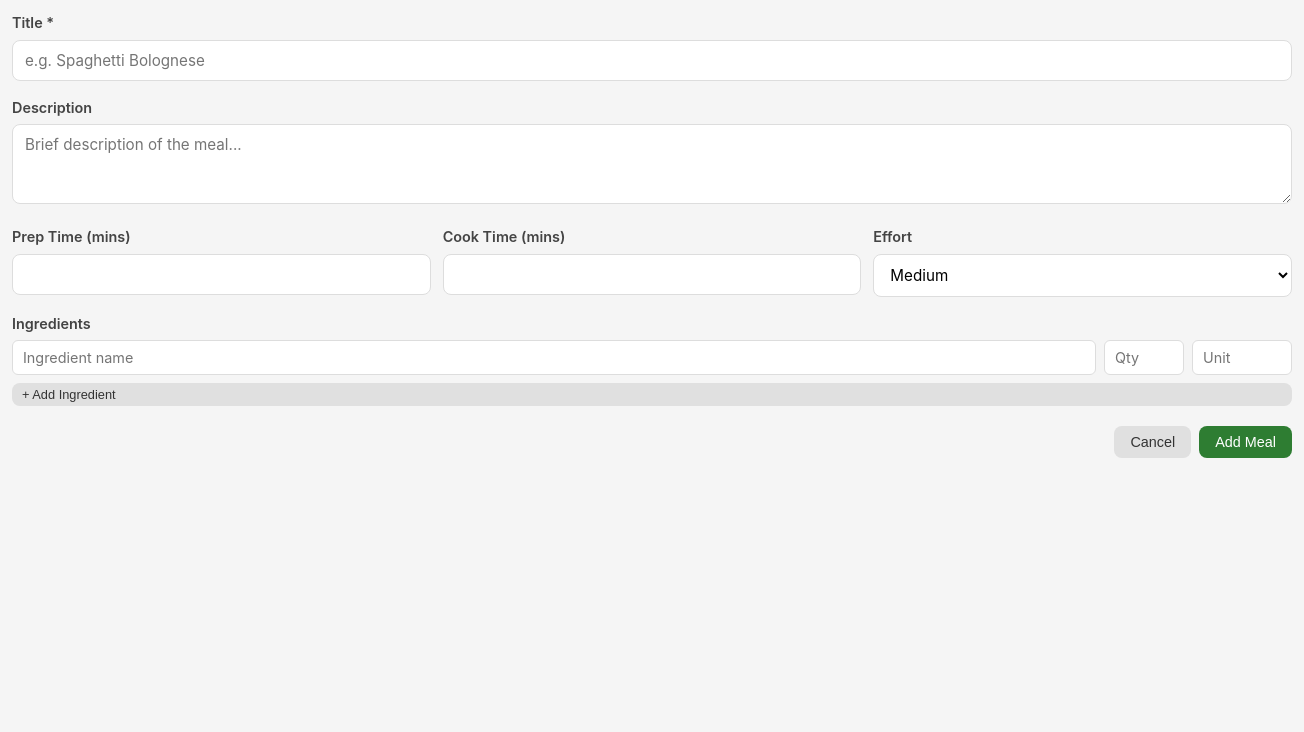
MealForm › adds new ingredient row when clicking add ingredient
Click the button "+ Add Ingredient" at (69, 395), box left=12, top=383, right=1292, bottom=406
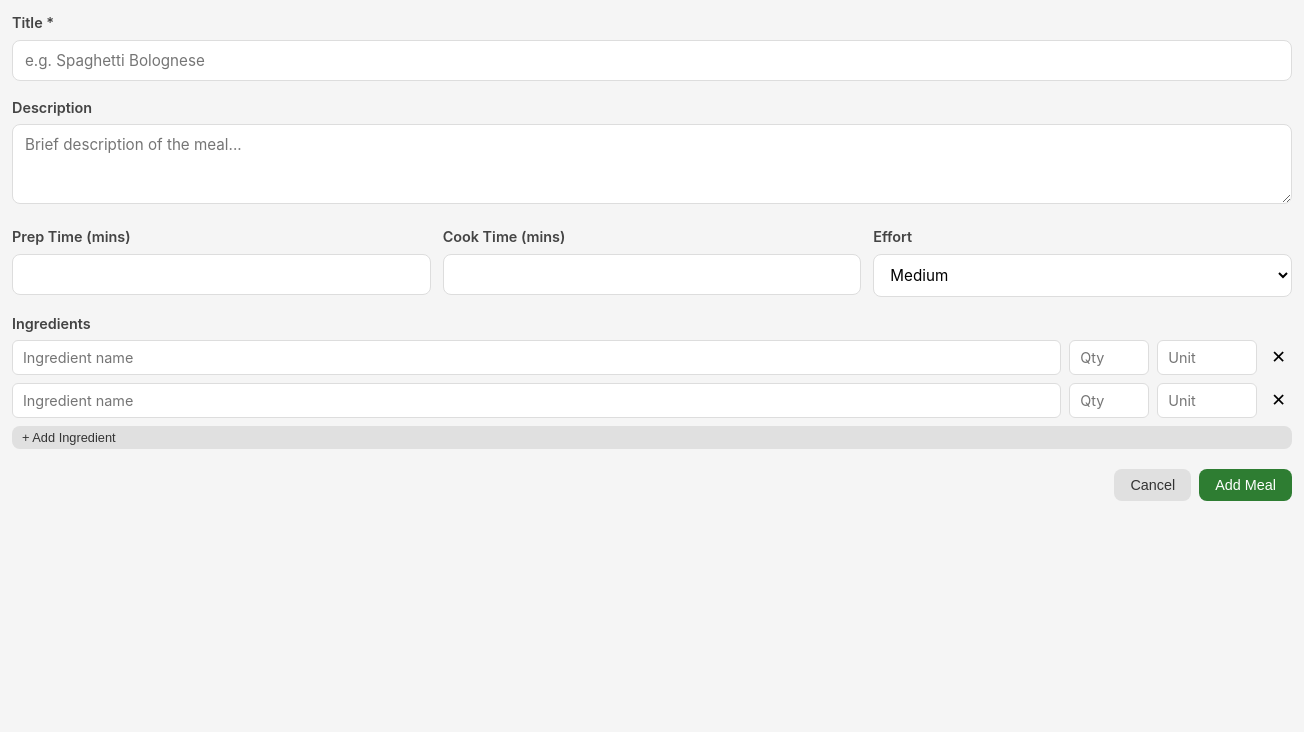
Expected: the number of fields with placeholder "Ingredient name" is 2, left=12, top=340, right=1061, bottom=375; left=12, top=383, right=1061, bottom=418
